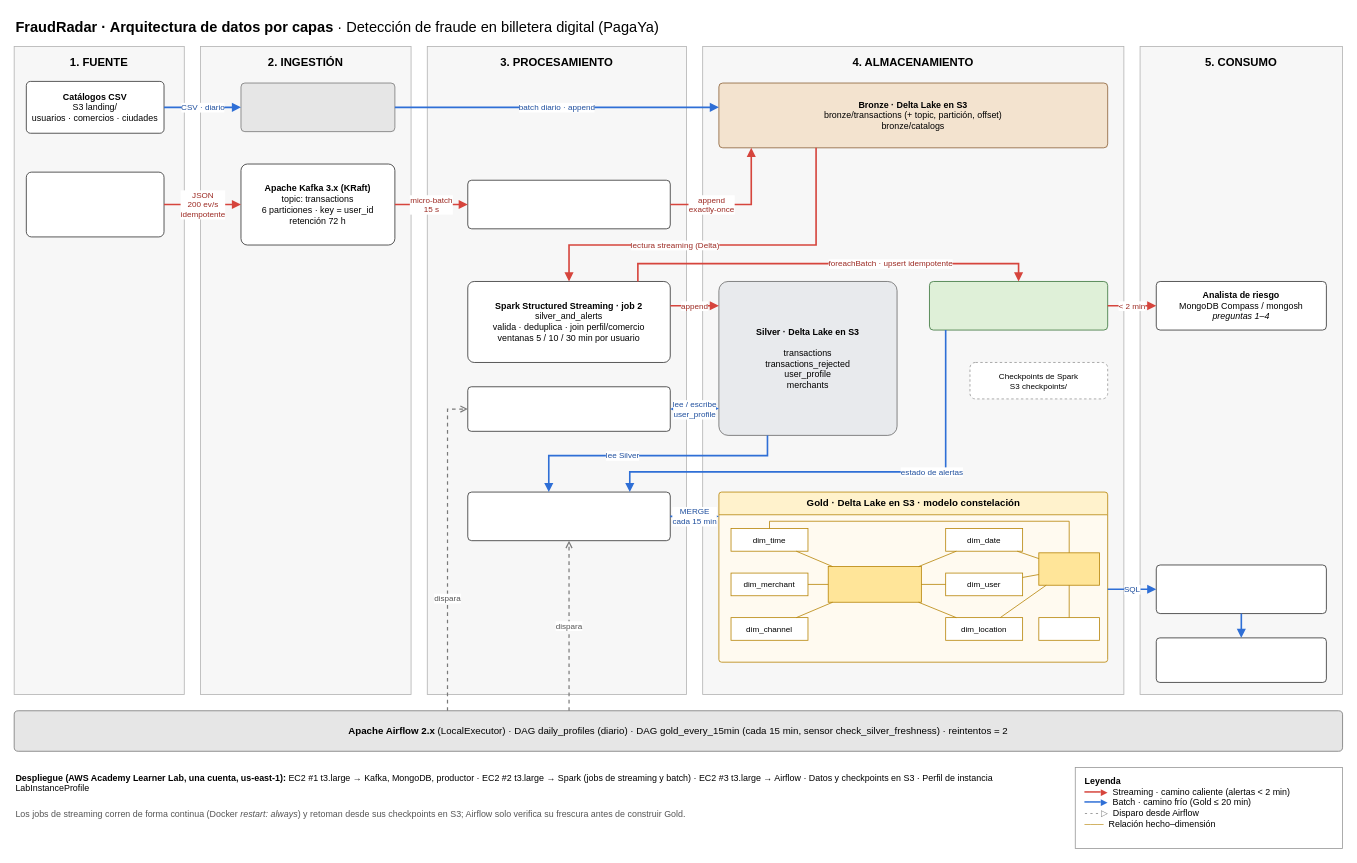
Image size: 1357x863. Some labels were removed from this diagram. The centre of each missing label's shape, as x and y in pixels:
"Amazon Athena + AWS Glue Data Catalog" goes at pixel 1240 589.
"dim_rule" goes at pixel 1069 628.
"fact_alert" goes at pixel 1069 568.
"fact_transaction" goes at pixel 874 584.
"Jefe de riesgo · Producto consultas SQL preguntas 5–7" goes at pixel 1240 659.
"MongoDB 7 · fraud.alerts upsert por alert_id · CP" goes at pixel 1018 305.
"Productor Python producer.py simula el core de PagaYa" goes at pixel 95 204.
"Spark batch · build_gold DAG gold_every_15min" goes at pixel 568 516.
"Spark batch · build_user_profile DAG daily_profiles" goes at pixel 568 408.
"Spark Structured Streaming · job 1 ingest_bronze · trigger 15 s" goes at pixel 568 204.
"Tarea Airflow load_catalogs DAG daily_profiles" goes at pixel 317 107.
